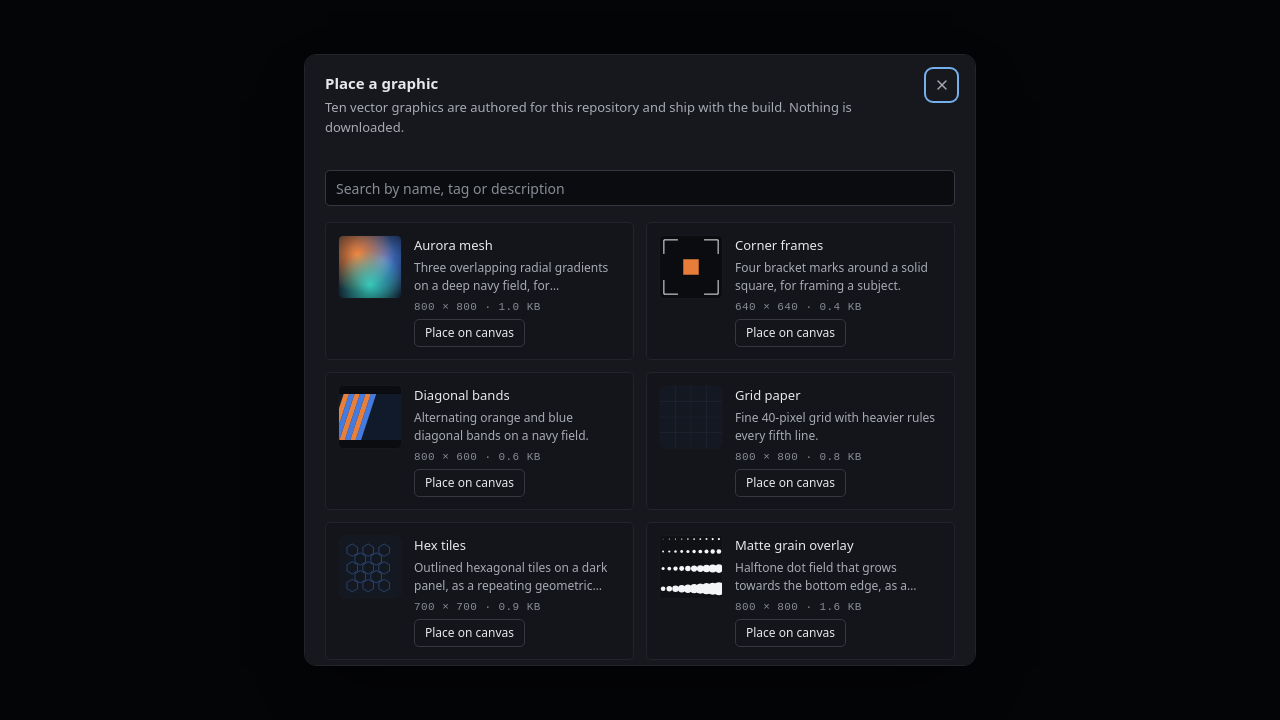
Test case: GraphicPicker › searches the catalogue through the same query the library uses
Type "waveform" into the field named "search graphics" at [640, 188], box 325,170 -> 955,206
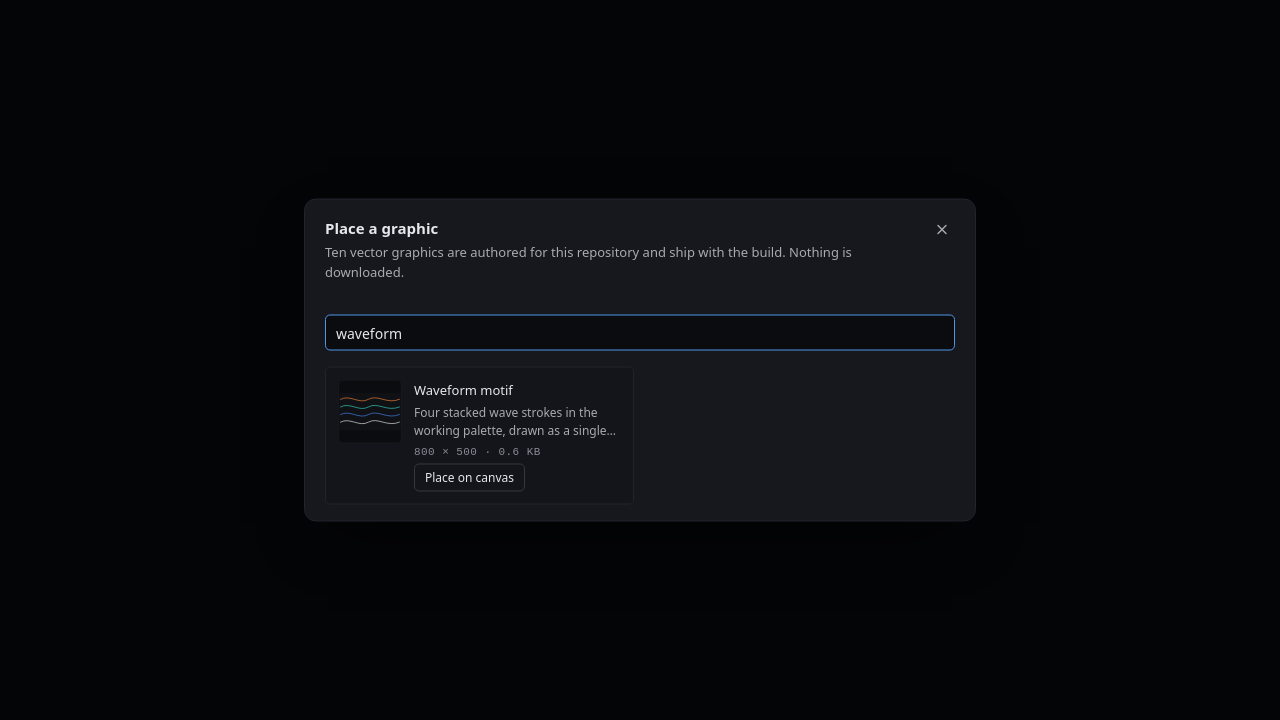
Check: the text "Waveform motif" is shown, box 414,380 -> 513,398
